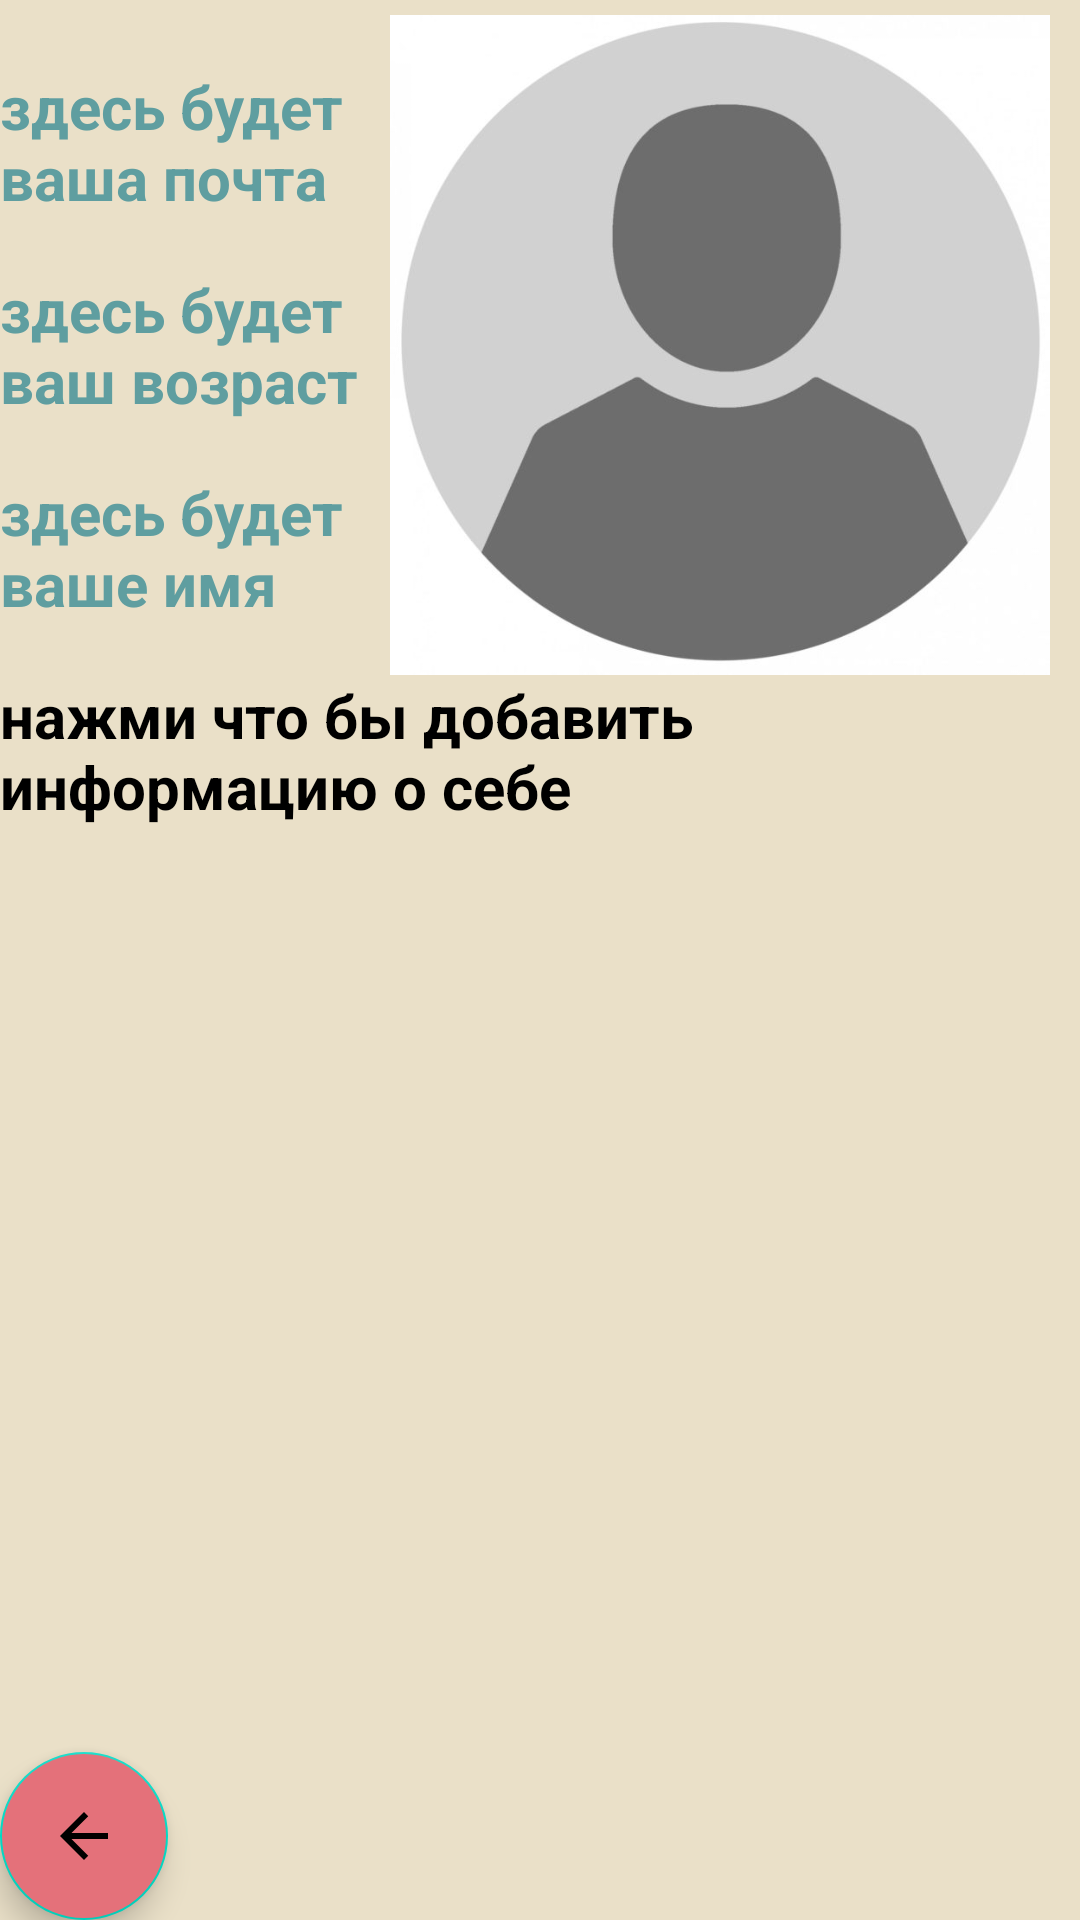

Icon click points for this 1080 × 1920 phone screenshot, format (x=x, y=y):
arrow back: (x=84, y=1836)
